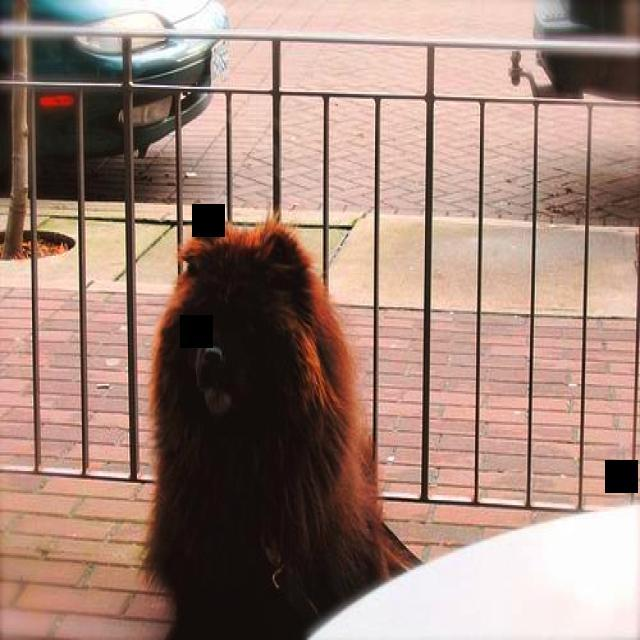adult_dog: (144, 218, 424, 640)
